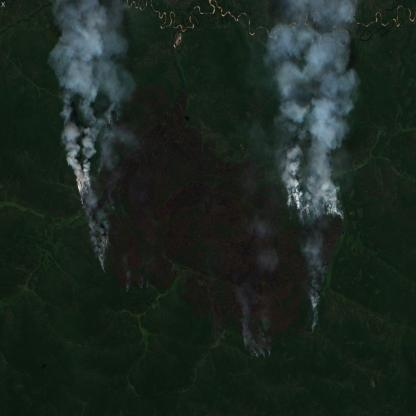fire: (72, 104, 121, 277), (288, 188, 346, 225), (302, 288, 324, 334), (242, 338, 274, 361)
